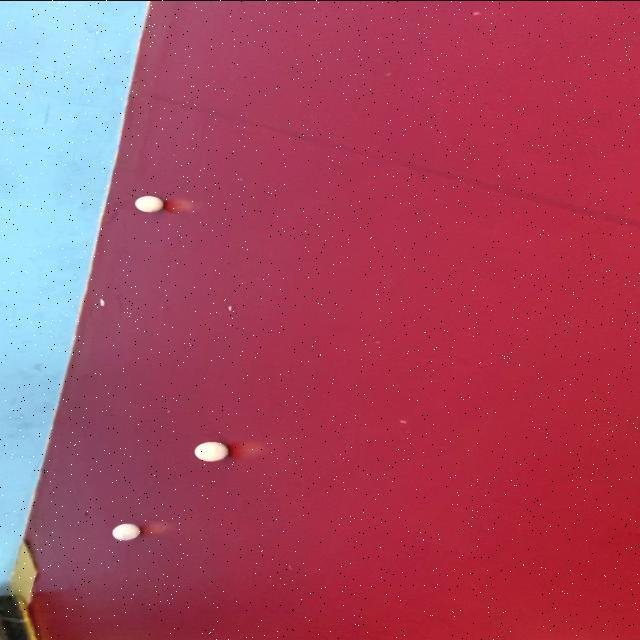ping-pong-ball: (176, 437, 236, 468), (122, 188, 168, 220), (104, 519, 148, 545)
